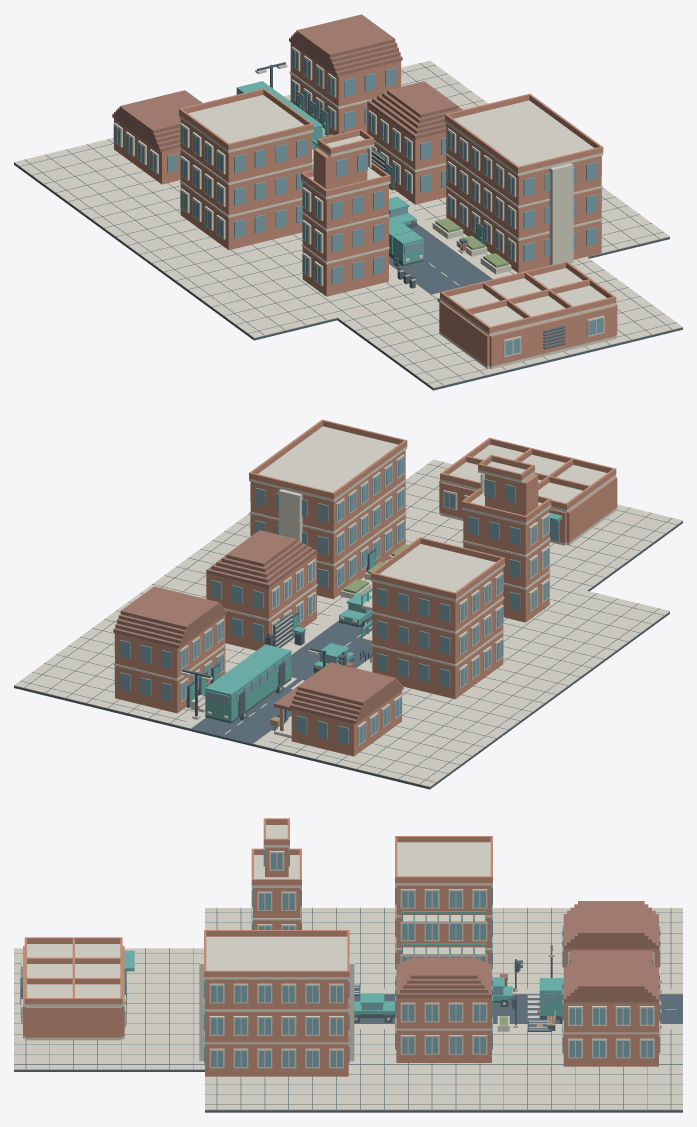
3 renders of one model, top to bottom at view 1: azimuth 30°, elevation 25°; view 2: azimuth 150°, elevation 25°; view 3: azimuth 270°, elevation 25°, orthographic.
Visible parts, largest first — view 1: 030-garden-apartment/garden-apartment-concrete, 030-garden-apartment/garden-apartment-brick, 027-balcony-walkup/balcony-walkup-brick, 029-stepped-townhouse/stepped-townhouse-brick, 027-balcony-walkup/balcony-walkup-concrete, 026-duplex-stoop/duplex-stoop-roof, 009-sidewalk-straight/sidewalk-straight-concrete, 005-sidewalk-straight/sidewalk-straight-concrete, 008-sidewalk-straight/sidewalk-straight-concrete, 006-sidewalk-straight/sidewalk-straight-concrete, 030-garden-apartment/garden-apartment-glass, 027-balcony-walkup/balcony-walkup-glass (+51 smaller); view 2: 027-balcony-walkup/balcony-walkup-brick, 030-garden-apartment/garden-apartment-concrete, 030-garden-apartment/garden-apartment-brick, 029-stepped-townhouse/stepped-townhouse-brick, 027-balcony-walkup/balcony-walkup-concrete, 025-porch-bungalow/porch-bungalow-roof, 026-duplex-stoop/duplex-stoop-roof, 026-duplex-stoop/duplex-stoop-brick, 005-sidewalk-straight/sidewalk-straight-concrete, 009-sidewalk-straight/sidewalk-straight-concrete, 006-sidewalk-straight/sidewalk-straight-concrete, 027-balcony-walkup/balcony-walkup-glass (+48 smaller); view 3: 030-garden-apartment/garden-apartment-brick, 030-garden-apartment/garden-apartment-concrete, 027-balcony-walkup/balcony-walkup-concrete, 025-porch-bungalow/porch-bungalow-roof, 027-balcony-walkup/balcony-walkup-brick, 026-duplex-stoop/duplex-stoop-roof, 030-garden-apartment/garden-apartment-glass, 020-sidewalk-straight/sidewalk-straight-concrete, 022-sidewalk-straight/sidewalk-straight-concrete, 021-sidewalk-straight/sidewalk-straight-concrete, 028-garage-house/garage-house-brick, 026-duplex-stoop/duplex-stoop-brick (+50 smaller).
Boxes of the visible parts, box(x1,y1,x2,y2) form: 030-garden-apartment/garden-apartment-concrete: box(432, 100, 603, 274); 030-garden-apartment/garden-apartment-brick: box(445, 93, 603, 272); 027-balcony-walkup/balcony-walkup-brick: box(179, 88, 313, 250); 029-stepped-townhouse/stepped-townhouse-brick: box(301, 129, 390, 296); 027-balcony-walkup/balcony-walkup-concrete: box(179, 95, 313, 239); 026-duplex-stoop/duplex-stoop-roof: box(289, 14, 402, 76); 009-sidewalk-straight/sidewalk-straight-concrete: box(206, 282, 337, 338); 005-sidewalk-straight/sidewalk-straight-concrete: box(14, 142, 144, 197); 008-sidewalk-straight/sidewalk-straight-concrete: box(158, 247, 288, 302); 006-sidewalk-straight/sidewalk-straight-concrete: box(62, 177, 180, 232); 030-garden-apartment/garden-apartment-glass: box(448, 131, 596, 261); 027-balcony-walkup/balcony-walkup-glass: box(181, 125, 307, 238); 027-balcony-walkup/balcony-walkup-brick: box(370, 537, 504, 699); 030-garden-apartment/garden-apartment-concrete: box(249, 426, 407, 598); 030-garden-apartment/garden-apartment-brick: box(249, 419, 407, 599); 029-stepped-townhouse/stepped-townhouse-brick: box(461, 454, 551, 622); 027-balcony-walkup/balcony-walkup-concrete: box(361, 544, 504, 688); 025-porch-bungalow/porch-bungalow-roof: box(274, 662, 403, 724); 026-duplex-stoop/duplex-stoop-roof: box(113, 586, 226, 648); 026-duplex-stoop/duplex-stoop-brick: box(115, 615, 225, 713); 005-sidewalk-straight/sidewalk-straight-concrete: box(347, 731, 477, 787); 009-sidewalk-straight/sidewalk-straight-concrete: box(539, 591, 669, 646); 006-sidewalk-straight/sidewalk-straight-concrete: box(395, 696, 525, 751); 027-balcony-walkup/balcony-walkup-glass: box(376, 574, 503, 687); 030-garden-apartment/garden-apartment-brick: box(204, 930, 349, 1076); 030-garden-apartment/garden-apartment-concrete: box(199, 936, 354, 1068); 027-balcony-walkup/balcony-walkup-concrete: box(395, 842, 492, 962); 025-porch-bungalow/porch-bungalow-roof: box(563, 901, 658, 963); 027-balcony-walkup/balcony-walkup-brick: box(395, 836, 492, 964); 026-duplex-stoop/duplex-stoop-roof: box(563, 954, 658, 1002); 030-garden-apartment/garden-apartment-glass: box(204, 979, 349, 1066); 020-sidewalk-straight/sidewalk-straight-concrete: box(587, 1069, 682, 1110); 022-sidewalk-straight/sidewalk-straight-concrete: box(396, 1069, 491, 1110); 021-sidewalk-straight/sidewalk-straight-concrete: box(492, 1069, 587, 1110); 028-garage-house/garage-house-brick: box(396, 998, 491, 1062); 026-duplex-stoop/duplex-stoop-brick: box(563, 1002, 658, 1066).
Size of the model in its own units: 40 by 13.25 by 56.
